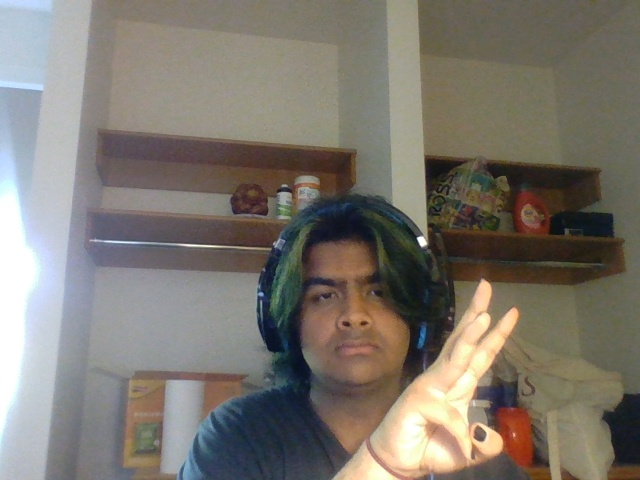w: (396, 268, 523, 471)
